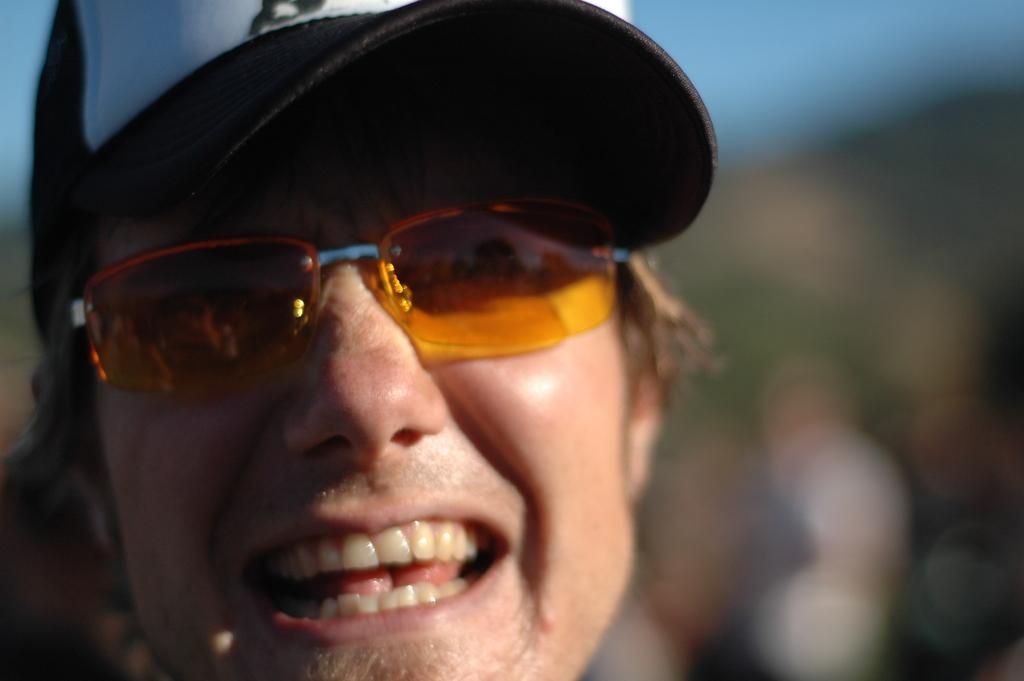Hat: (26, 0, 718, 333)
